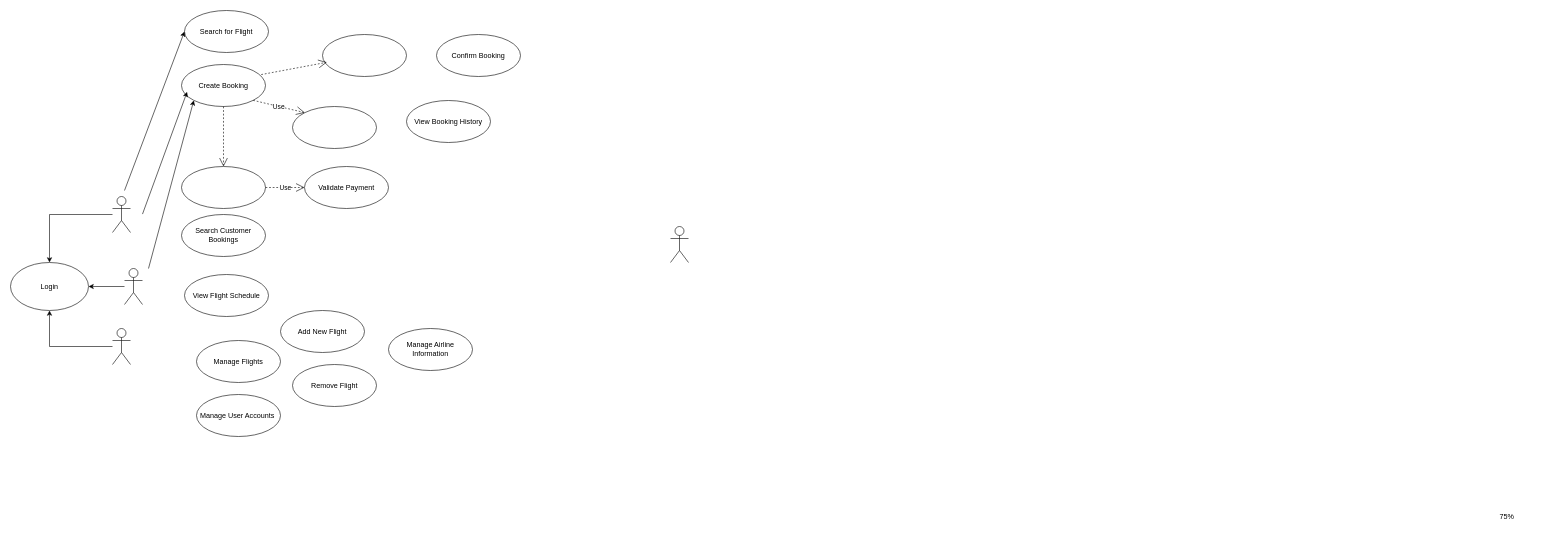
This 1545x543 diagram has some shape labels left out. Each missing label, with the centre of its shape:
"Customer" goes at pixel 121 214.
"Delete Booking" goes at pixel 334 127.
"Flight Agent" goes at pixel 133 286.
"Flight Server" goes at pixel 679 244.
"Make a Payment" goes at pixel 223 187.
"Select Seat" goes at pixel 364 55.
"System Administrator" goes at pixel 121 346.
